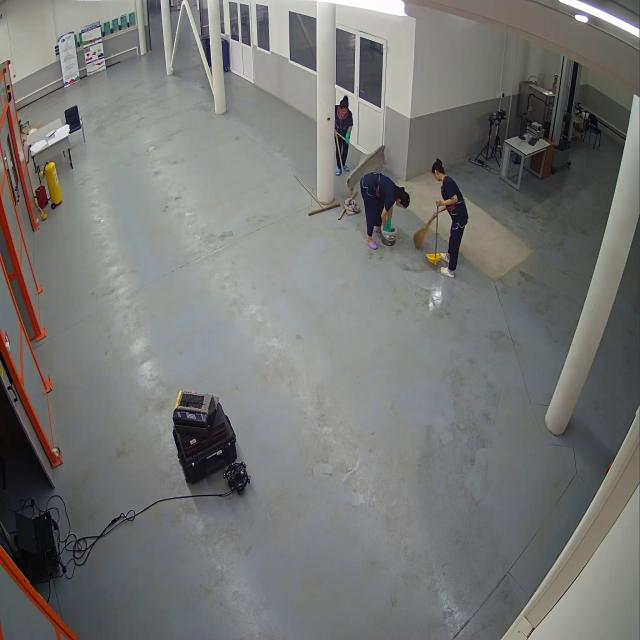NO-Hardhat: (339, 96, 352, 114), (429, 159, 445, 173), (402, 193, 413, 210)
Person: (429, 158, 470, 279), (360, 168, 413, 251), (336, 93, 356, 178)
